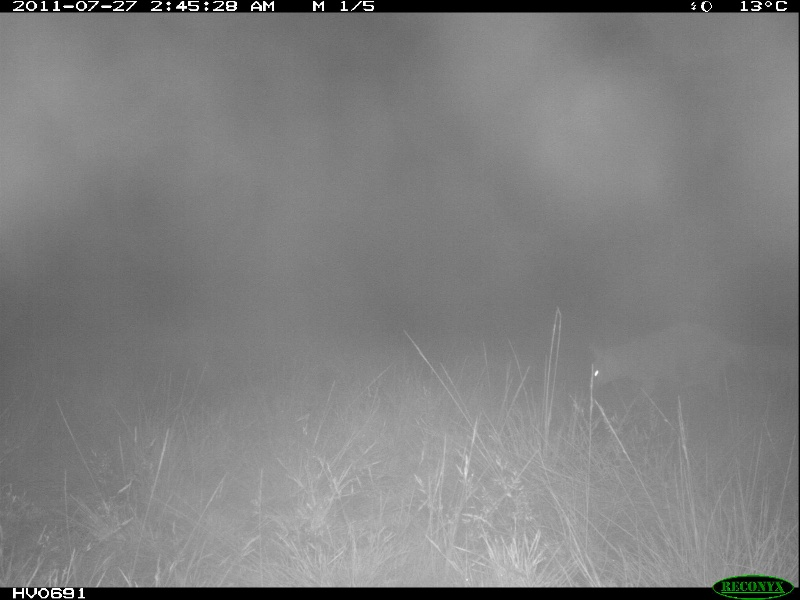fox: (587, 323, 792, 407)
